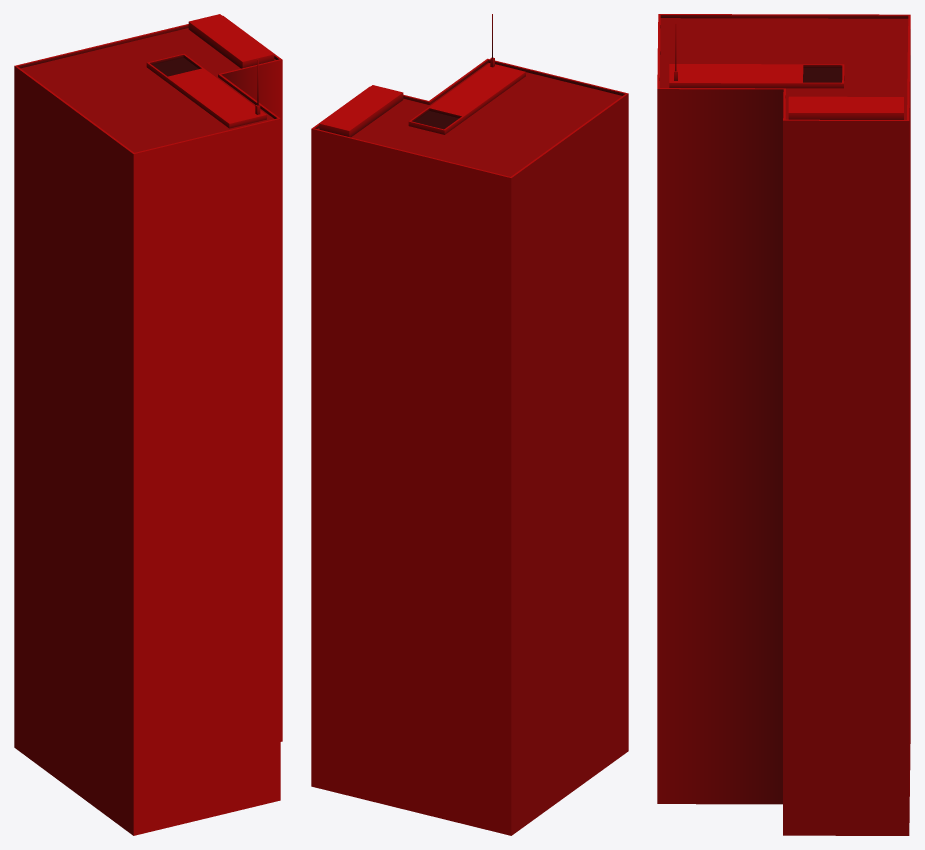
3 views of the same model, side by side, from view 1: azimuth 30°, elevation 25°; view 2: azimuth 150°, elevation 25°; view 3: azimuth 270°, elevation 25° (orthographic). The views are drawn at different scales.
Parts seen in each view (by area): view 1: base.154; view 2: base.154; view 3: base.154.
Boxes of the visible parts, x1,y1,x2,y2 form: base.154: [14, 14, 282, 835]; base.154: [311, 14, 628, 835]; base.154: [657, 14, 910, 835].
Size of the model in its own units: 2085 by 2084 by 7025.
